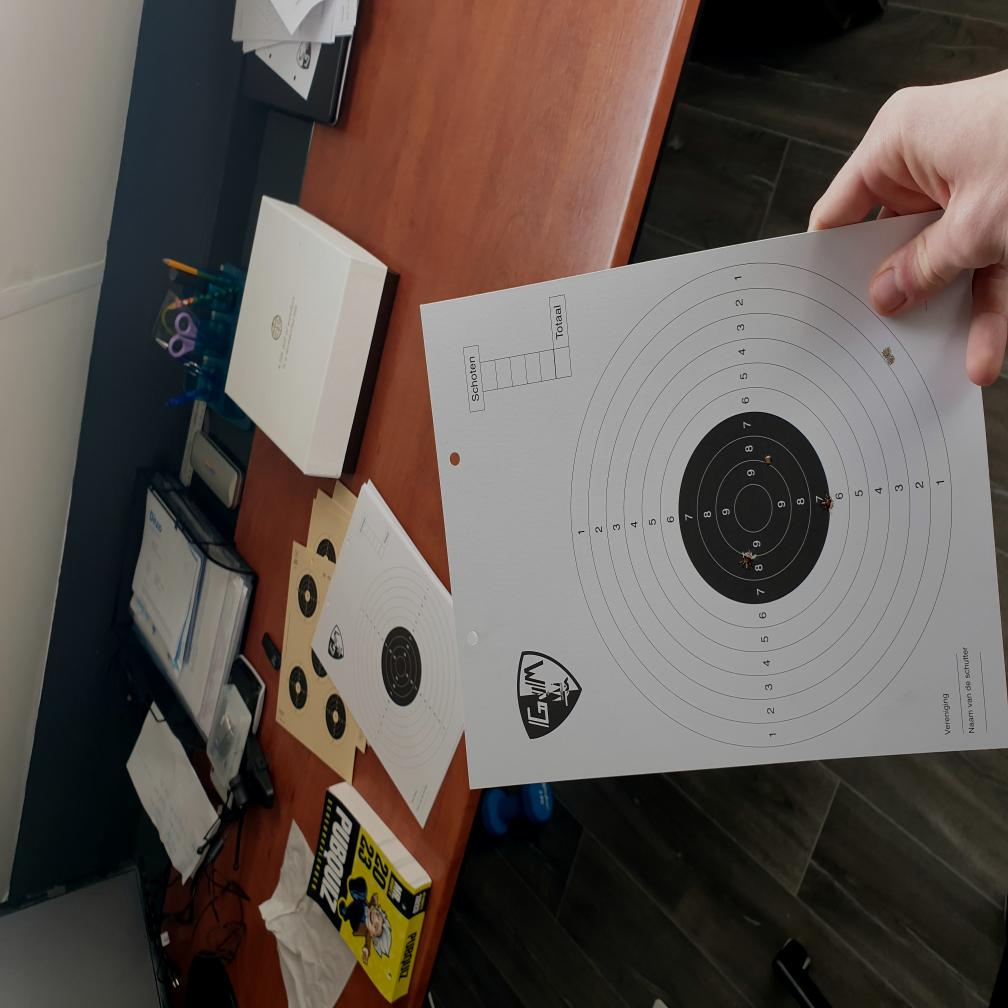1: (881, 346, 896, 359), (886, 355, 896, 366)
7: (819, 490, 834, 516)
9: (738, 548, 756, 571), (763, 453, 773, 467)
Target: (570, 262, 954, 750)
black_contour: (678, 410, 831, 606)
